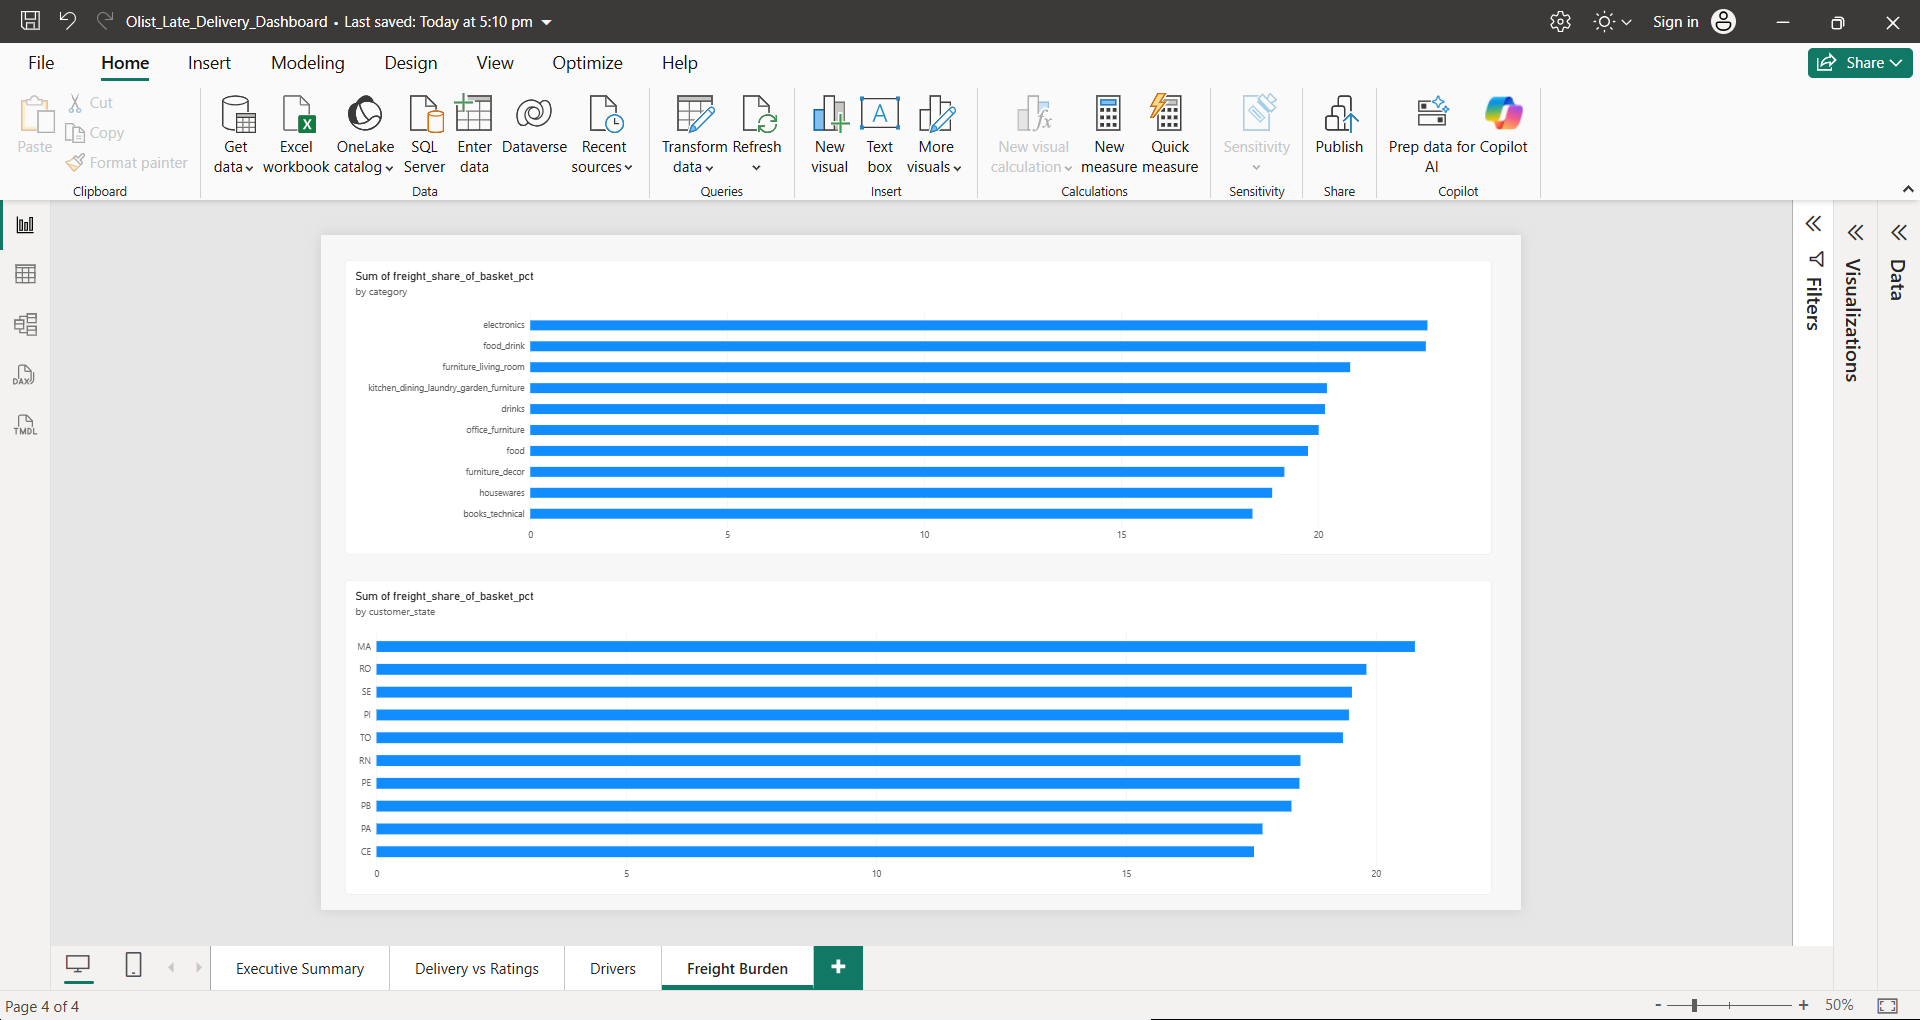

This screenshot's page, from the dashboard's own definition file:
{"tool":"powerbi","page":{"name":"Freight Burden","canvas":[1920,1080],"ordinal":3},"visuals":[{"type":"clusteredBarChart","fields":{"Category":["05_freight_cat.category"],"Y":["Sum(05_freight_cat.freight_share_of_basket_pct)"]},"box":[38,39.8,1835,472.3],"z":0},{"type":"clusteredBarChart","fields":{"Category":["05_freight_state.customer_state"],"Y":["Sum(05_freight_state.freight_share_of_basket_pct)"]},"box":[38,551.9,1835,503.1],"z":1}]}

Visuals, with their boxes on the page's 1920x1080 design canvas (x1, y1, x2, y2). These are canvas units, not pixel positions in the 1920x1020 screenshot, which may show the page scaled, cropped or inside an application window:
clusteredBarChart - 05_freight_cat.category x Sum(05_freight_cat.freight_share_of_basket_pct): x1=38, y1=40, x2=1873, y2=512
clusteredBarChart - 05_freight_state.customer_state x Sum(05_freight_state.freight_share_of_basket_pct): x1=38, y1=552, x2=1873, y2=1055
